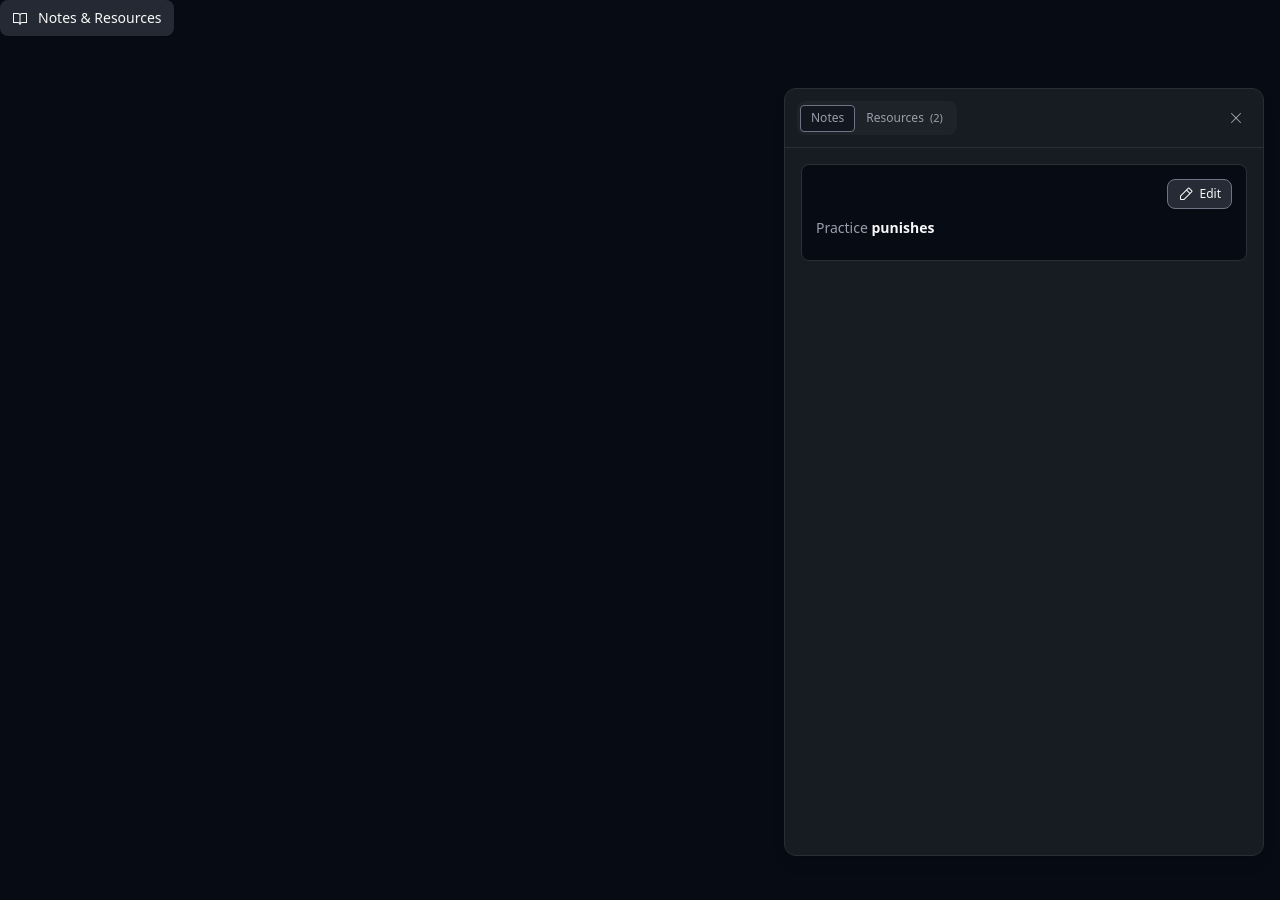
Test: EntityNotebook › renders formatted notes and safe, accessible resource links
Step 1. Click the tab "Resources (2)" → click(904, 118), box 855,104 -> 954,132
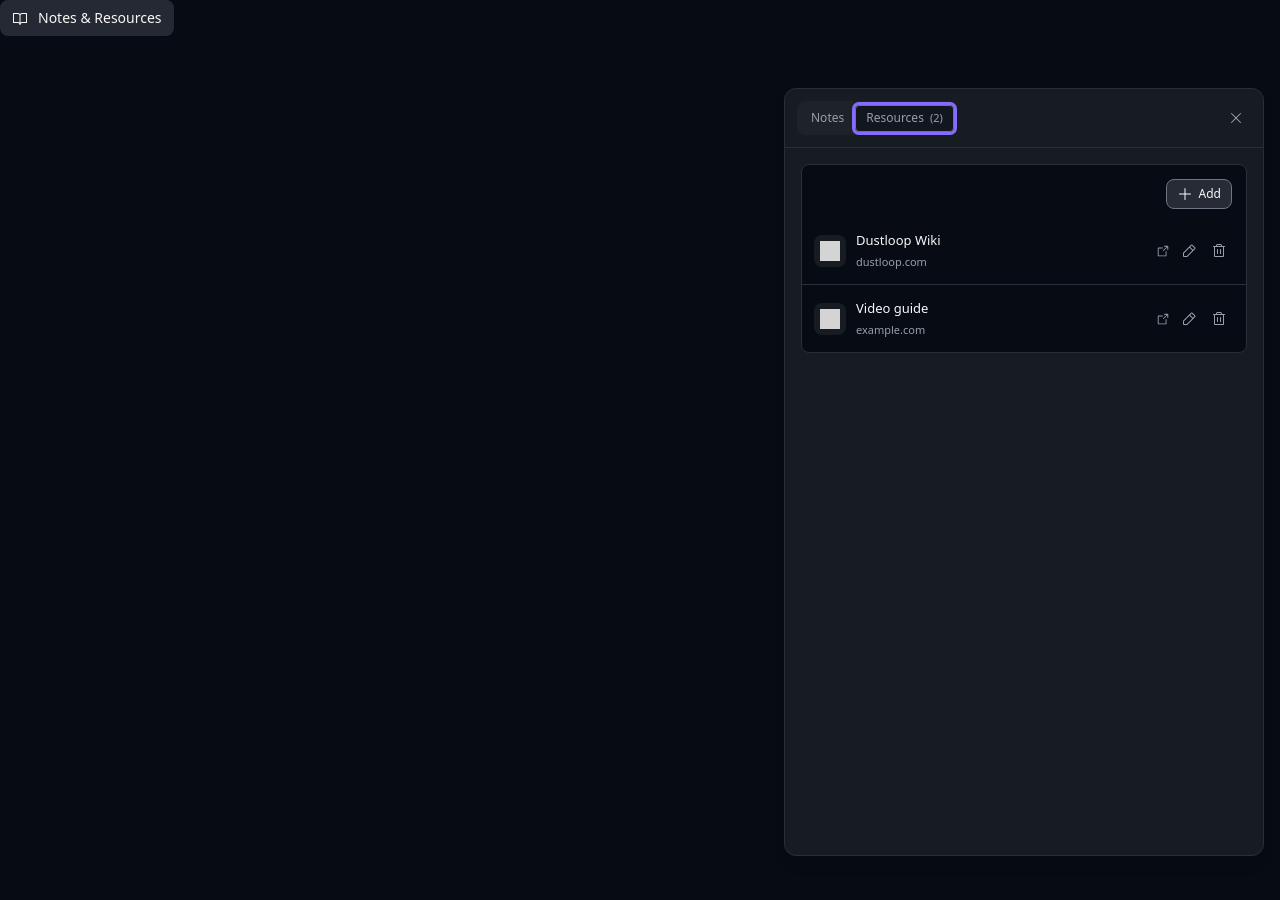
Result: the text "dustloop.com" is shown at 856,254 -> 927,268
